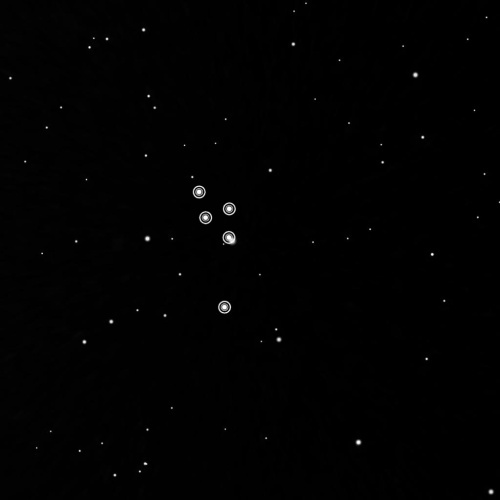delphinus: (185, 176, 242, 320)
